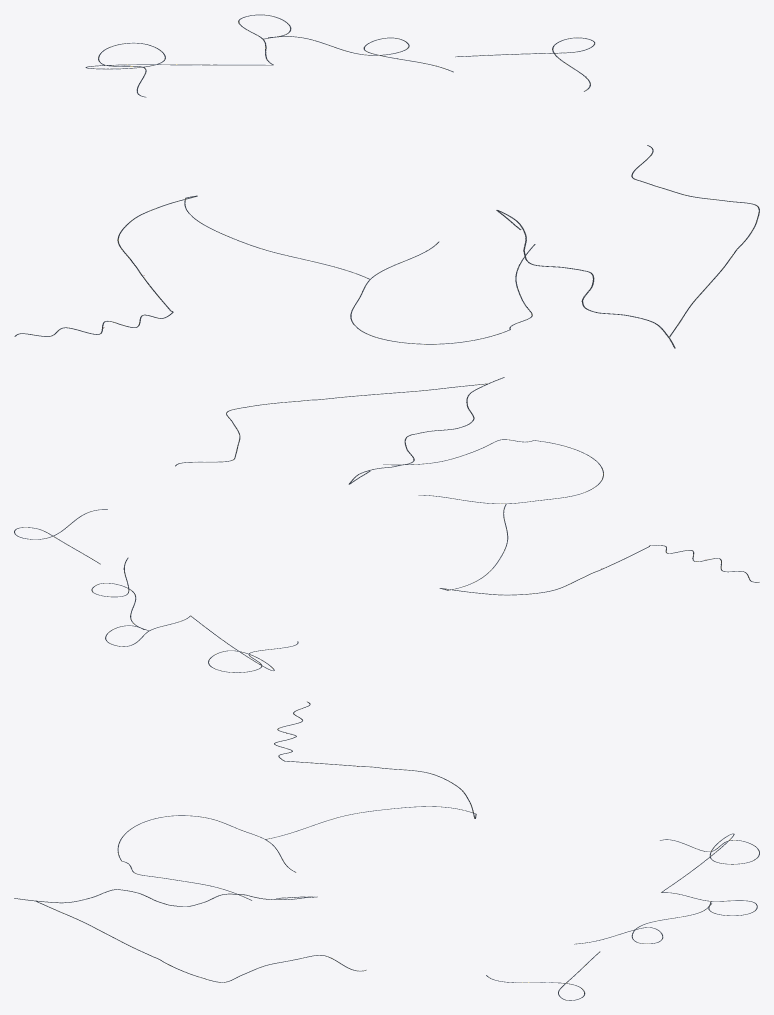
File: ring1_true_mountain_passes_prenn_mimosa_tanung_w3.glb
3 views of the same model, one above another, from view 1: azimuth 30°, elevation 25°; view 2: azimuth 150°, elevation 25°; view 3: azimuth 270°, elevation 25° (orthographic). The views are drawn at different scales.
Bounding box in the file's own units: 10707 × 145 × 11290.
